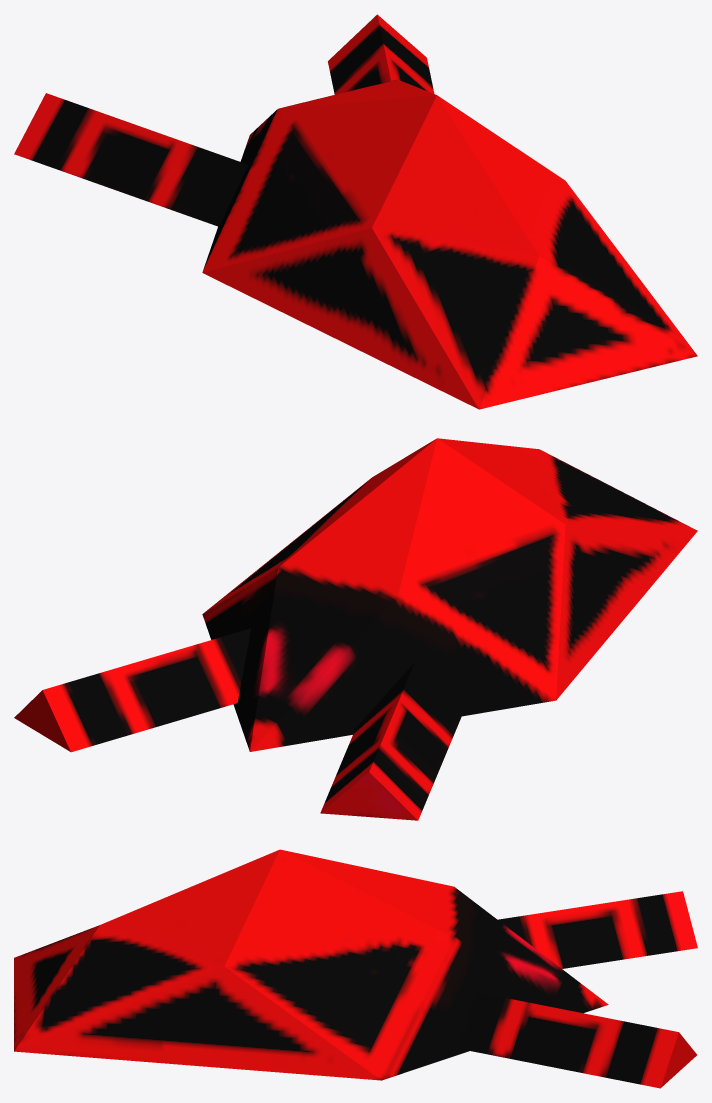
File: abyssopod.glb
3 renders of one model, top to bottom at view 1: azimuth 30°, elevation 25°; view 2: azimuth 150°, elevation 25°; view 3: azimuth 270°, elevation 25°, orthographic. The views are drawn at different scales.
Visible parts, largest first — view 1: Icosphere; view 2: Icosphere; view 3: Icosphere.
Boxes of the visible parts, x1,y1,x2,y2 form: Icosphere: [14, 14, 697, 409]; Icosphere: [14, 438, 697, 820]; Icosphere: [14, 849, 697, 1088].
Bounding box in the file's own units: 1.03 × 0.4261 × 1.7.
1 material, 1 textured.
